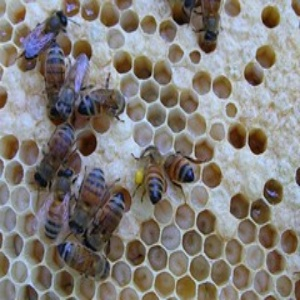bee: (165, 152, 209, 197), (131, 152, 165, 208), (59, 244, 109, 281), (85, 86, 126, 120), (200, 2, 226, 41), (42, 44, 64, 86)
